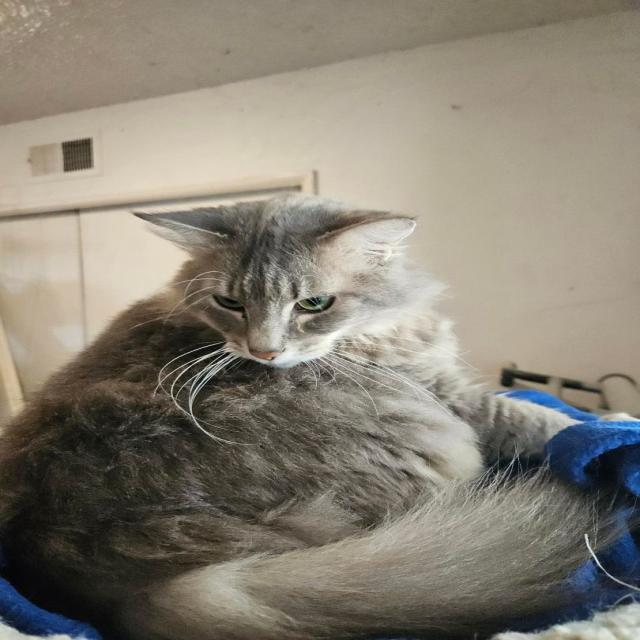maine_coon_cat: (109, 186, 461, 404)
